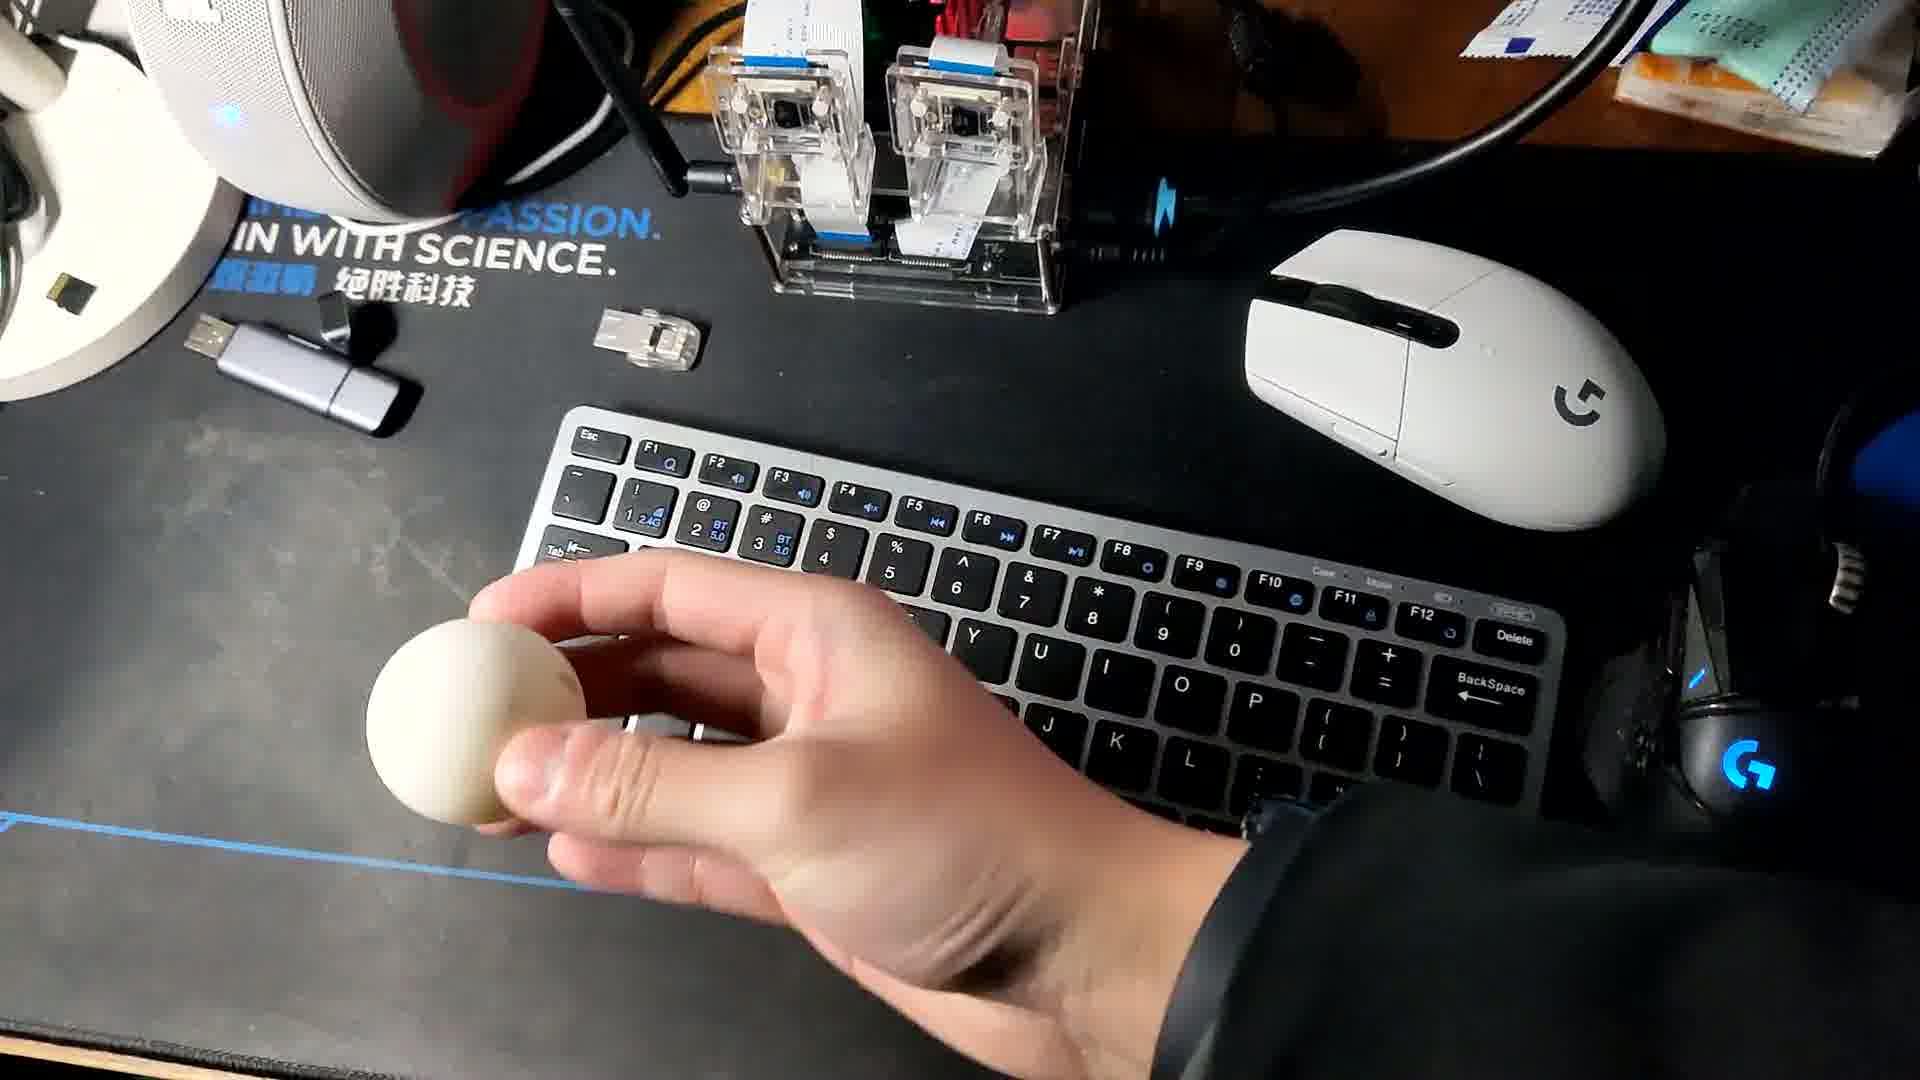Ball: (364, 617, 585, 829)
